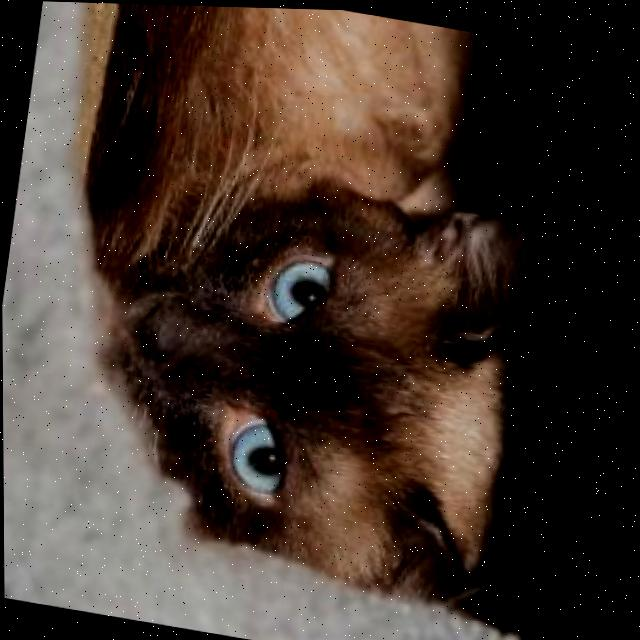Siamese: (27, 1, 635, 640)
